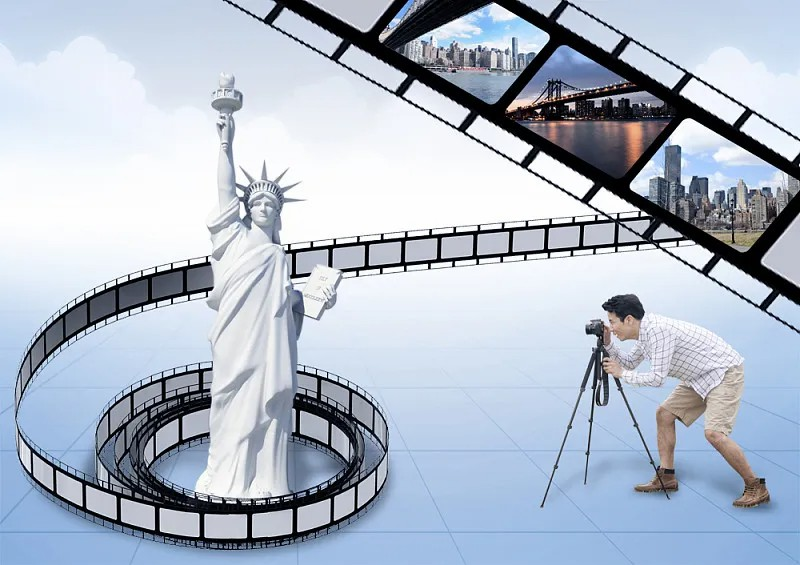SL: (190, 71, 343, 502)
